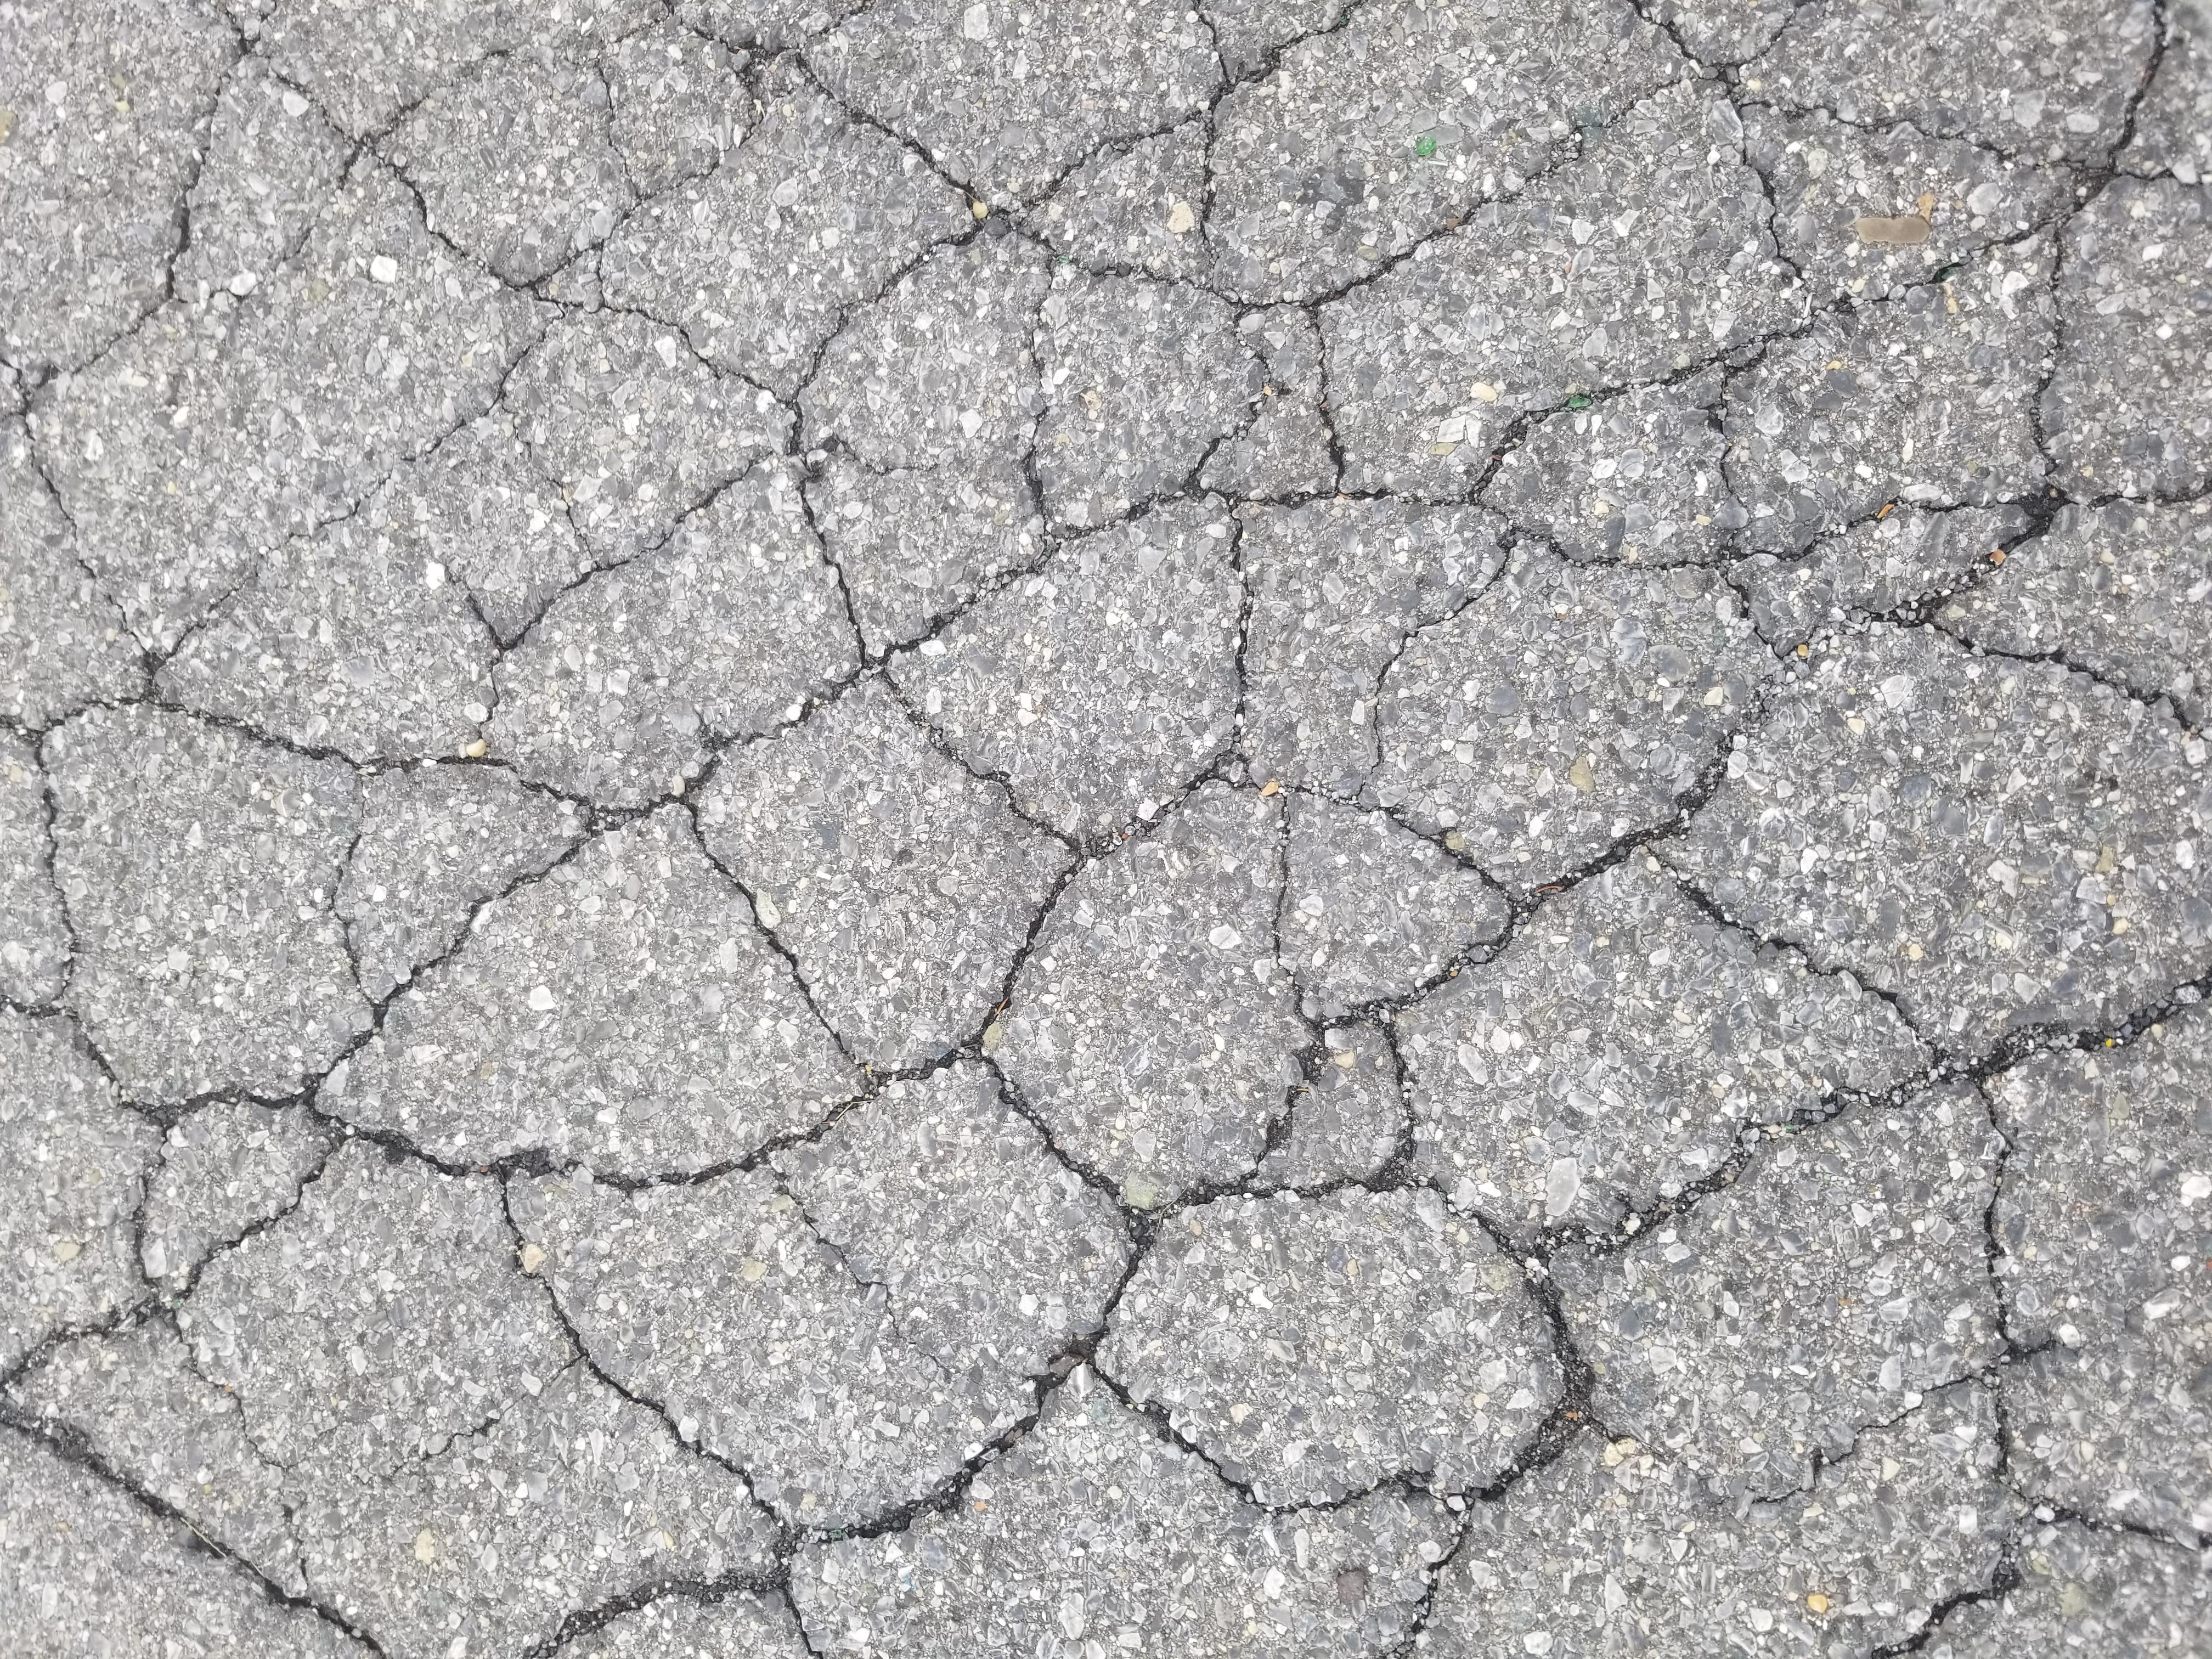alligator-crack: (19, 10, 2212, 1659)
